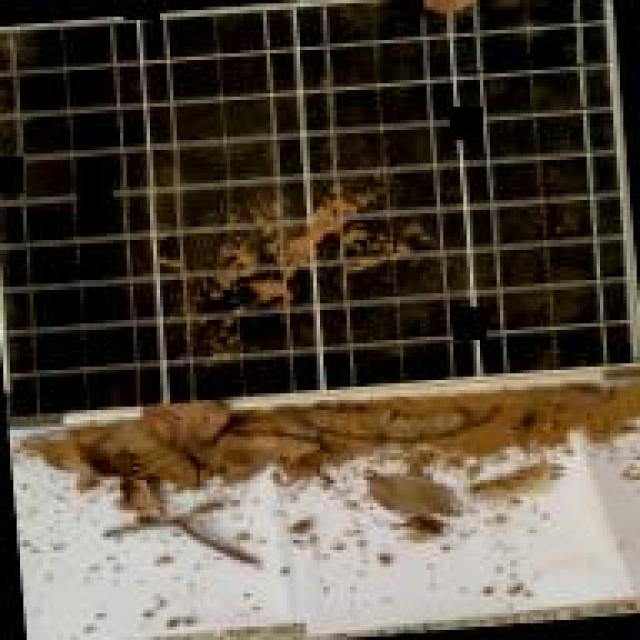dust-solar-panel: (0, 0, 639, 417)
